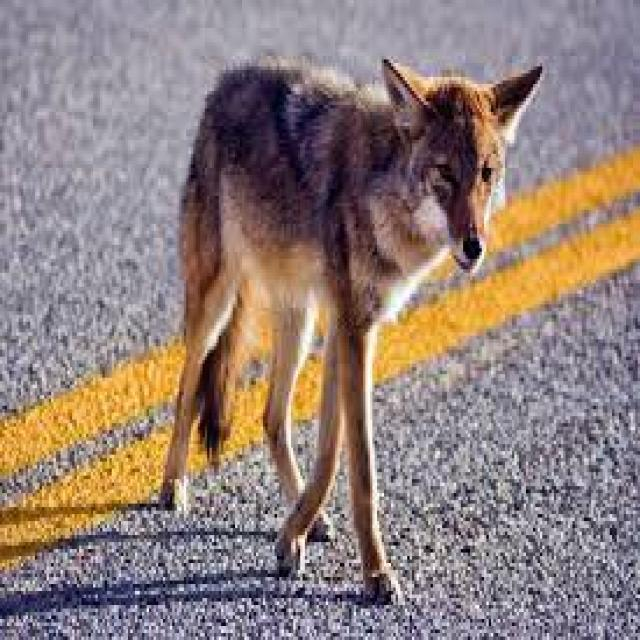Coyote: (160, 40, 542, 611)
